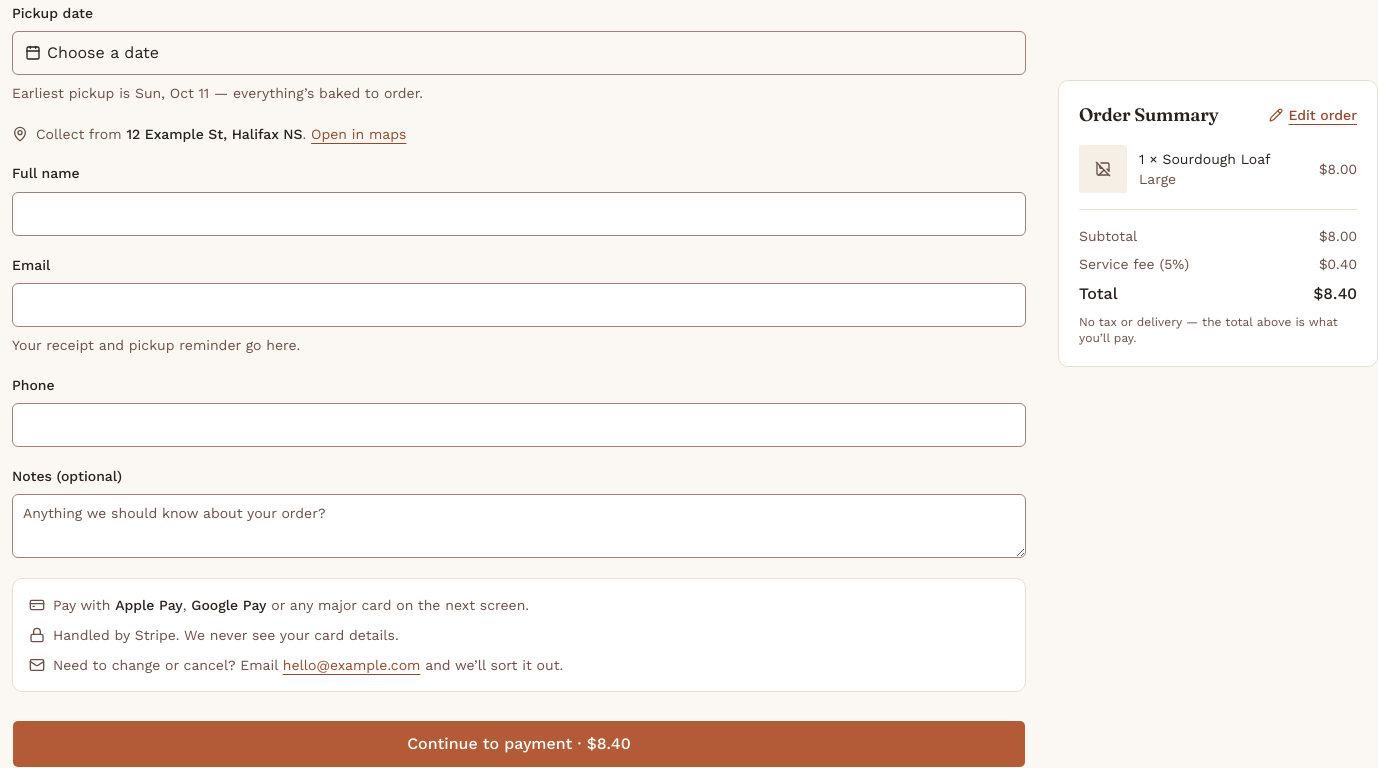
Test: CheckoutForm validation focus › focuses the pickup date when nothing has been filled in
(page scrolled)
Click the button "Continue to payment · $8.40" at (519, 744), box [12,720,1026,767]
(page scrolled)
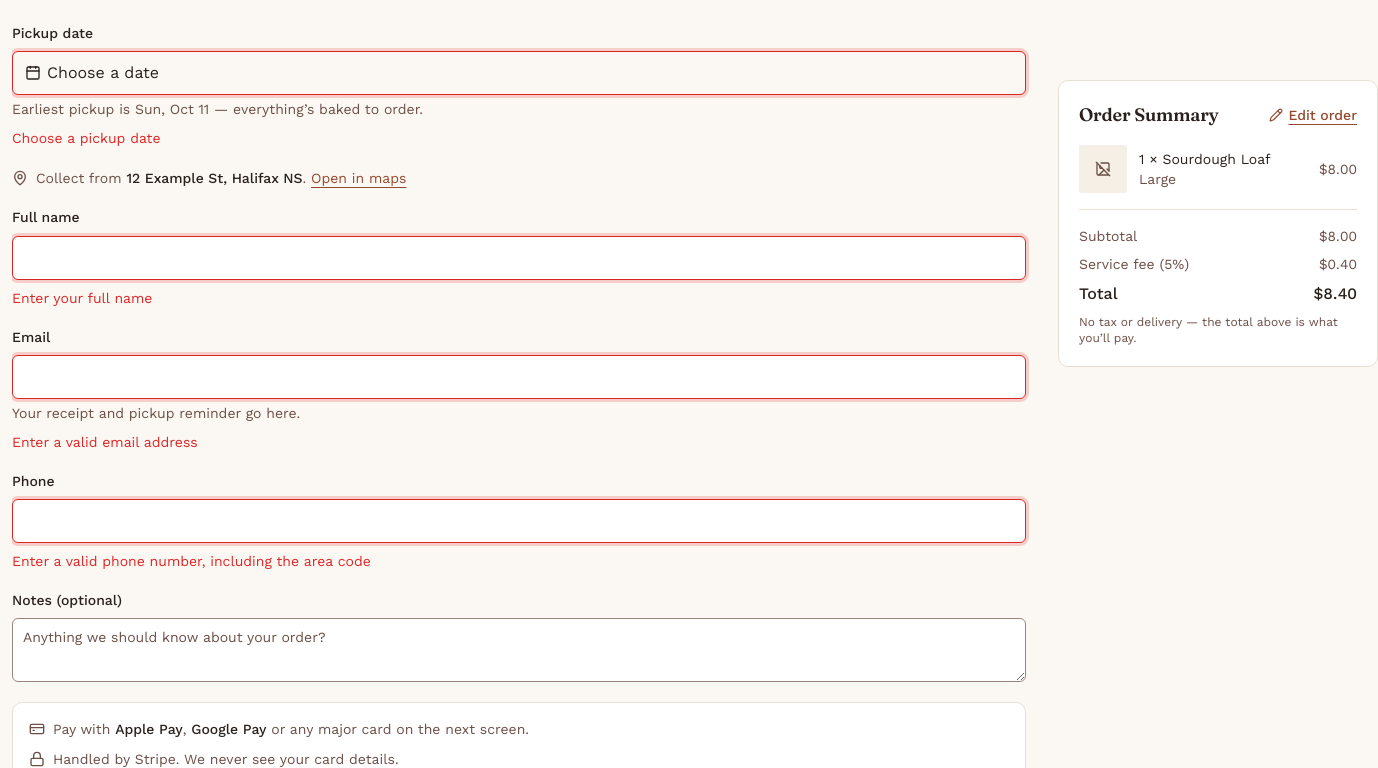
Now the message "Choose a pickup date" is shown, box [12,130,160,146]
